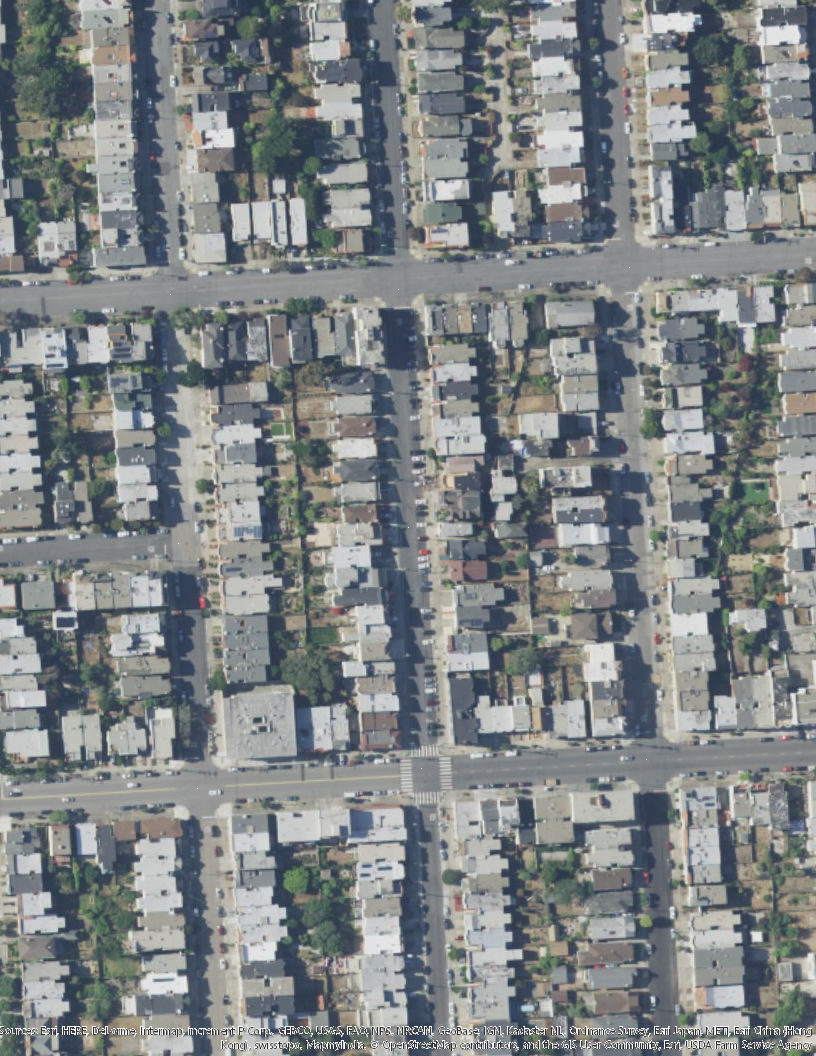zebracross: (398, 757, 414, 791), (439, 755, 453, 790), (415, 791, 443, 806), (410, 743, 442, 756)
